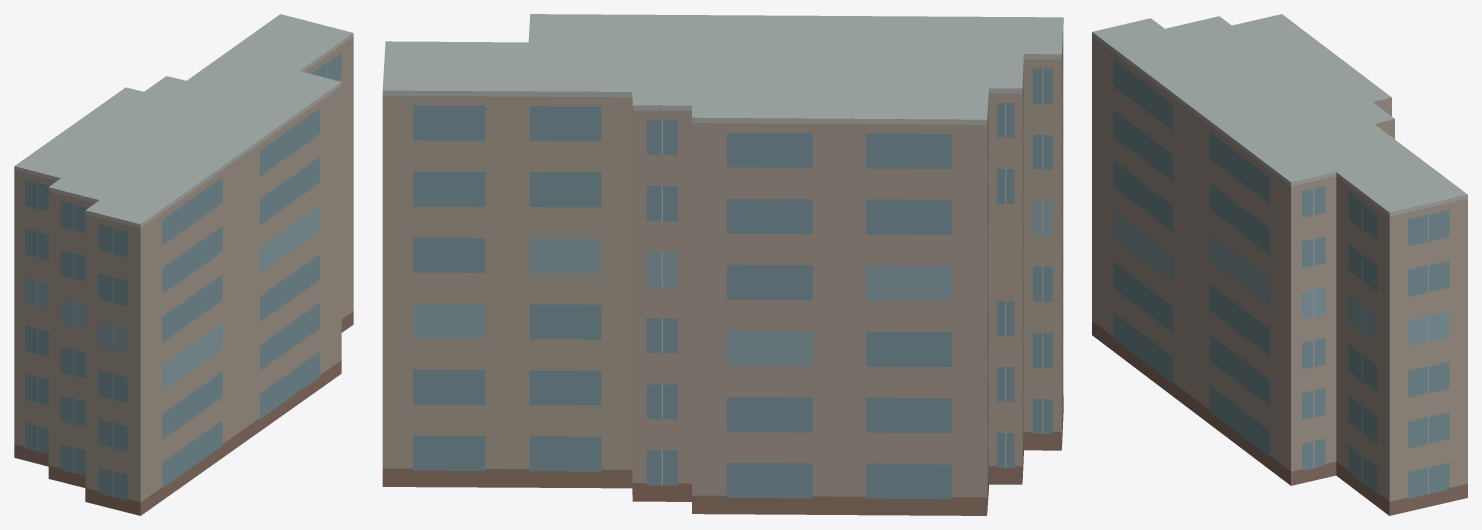
File: survey-upis-32682533.glb
3 views of the same model, side by side, from view 1: azimuth 30°, elevation 25°; view 2: azimuth 150°, elevation 25°; view 3: azimuth 270°, elevation 25° (orthographic). The views are drawn at different scales.
Parts seen in each view (by area): view 1: survey-upis-32682533.tmp; view 2: survey-upis-32682533.tmp; view 3: survey-upis-32682533.tmp.
Part boxes in pixels (x1=…): survey-upis-32682533.tmp: x1=14, y1=14, x2=353, y2=515; survey-upis-32682533.tmp: x1=382, y1=14, x2=1063, y2=515; survey-upis-32682533.tmp: x1=1092, y1=14, x2=1467, y2=515.
Bounding box in the file's own units: 25.69 × 18.3 × 20.55.
